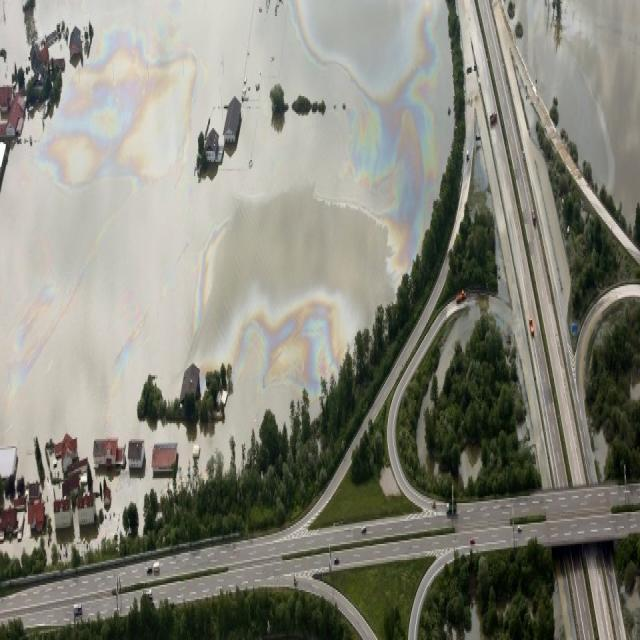flood: (0, 0, 453, 536), (512, 0, 640, 214), (0, 0, 29, 82), (50, 40, 68, 60)
house: (152, 427, 182, 482), (1, 75, 24, 143), (222, 96, 244, 145), (91, 436, 122, 470), (125, 434, 146, 478), (182, 362, 202, 404), (75, 492, 98, 527), (24, 501, 48, 532), (56, 434, 78, 465), (52, 500, 72, 528), (0, 508, 19, 534), (205, 128, 218, 162)
